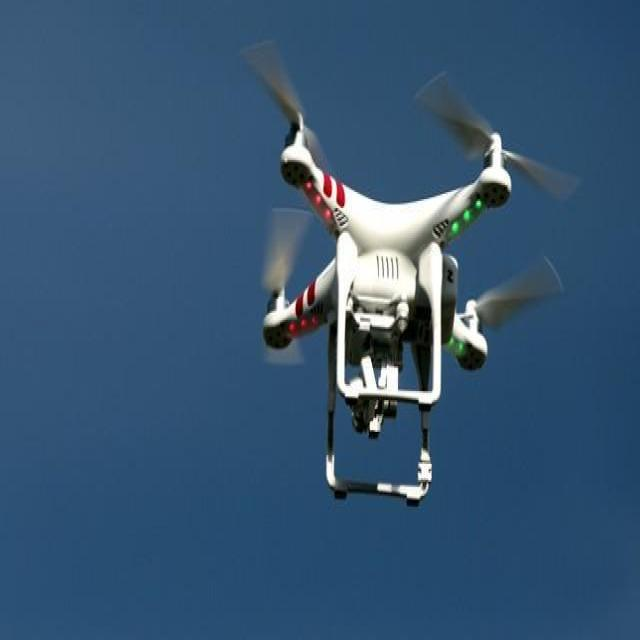drone: (262, 108, 513, 508)
